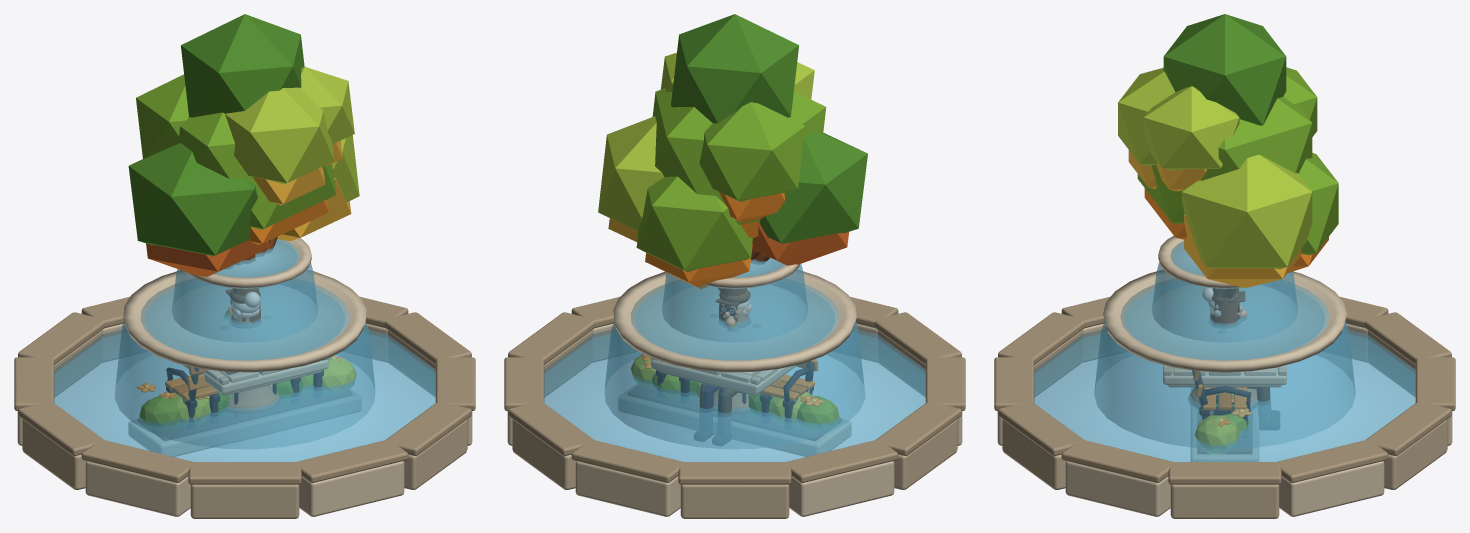
Rendered from park.glb.
3 renders of one model, left to right at view 1: azimuth 30°, elevation 25°; view 2: azimuth 150°, elevation 25°; view 3: azimuth 270°, elevation 25°, orthographic.
Visible parts, largest first — view 1: Fountain, TreeGreen, FlowerBed, TreeAutumn, StoneTable, Bench, BenchShort; view 2: Fountain, TreeGreen, FlowerBed, TreeAutumn, StoneTable, Bench, OldMan, OldWoman, BenchShort; view 3: Fountain, TreeGreen, TreeAutumn, FlowerBed, StoneTable, Bench, OldMan.
Part boxes in pixels (x1,y1,x2,y2): Fountain: [14, 238, 475, 518]; TreeGreen: [128, 14, 359, 323]; FlowerBed: [128, 355, 360, 456]; TreeAutumn: [146, 140, 351, 295]; StoneTable: [182, 358, 328, 442]; Bench: [165, 366, 323, 428]; BenchShort: [189, 375, 300, 423]; Fountain: [504, 258, 965, 518]; TreeGreen: [598, 14, 867, 322]; FlowerBed: [619, 354, 851, 456]; TreeAutumn: [608, 192, 848, 309]; StoneTable: [651, 358, 796, 442]; Bench: [656, 359, 818, 428]; OldMan: [694, 289, 760, 445]; OldWoman: [697, 288, 753, 443]; BenchShort: [679, 375, 790, 423]; Fountain: [994, 236, 1455, 518]; TreeGreen: [1118, 14, 1338, 328]; TreeAutumn: [1128, 150, 1328, 298]; FlowerBed: [1191, 388, 1258, 461]; StoneTable: [1163, 365, 1286, 387]; Bench: [1192, 370, 1251, 437]; OldMan: [1210, 291, 1279, 429].
Size of the model in its own units: 4.16 by 4.09 by 4.16.
